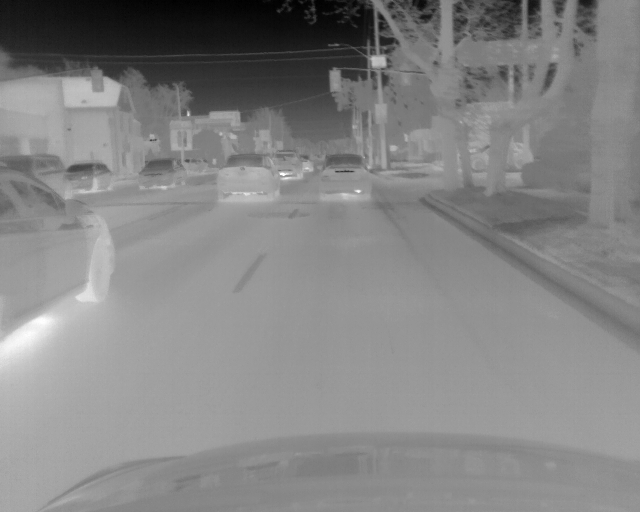car: (1, 168, 115, 344), (1, 153, 73, 201), (214, 154, 279, 201), (320, 155, 370, 199), (453, 142, 526, 171), (136, 159, 188, 190), (66, 162, 114, 192), (273, 149, 301, 180), (296, 154, 314, 174)
